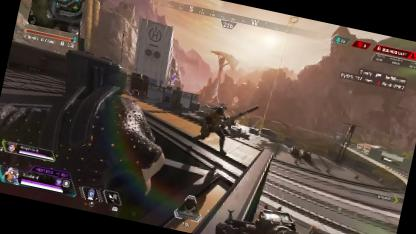Target: (193, 100, 232, 152)
